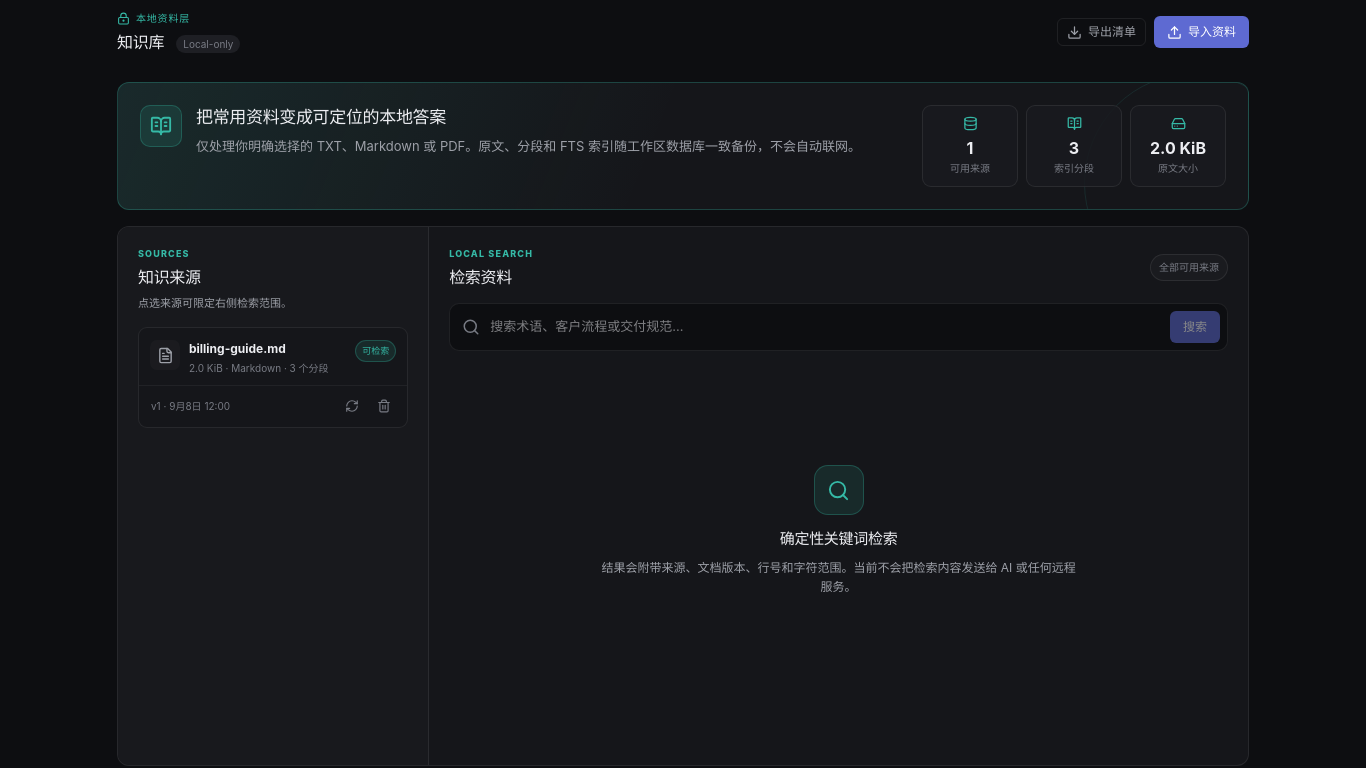
KnowledgeBasePage › exports only the source and index-status manifest
The width and height of the screenshot is (1366, 768).
Expected: the text "billing-guide.md" is shown, [189, 341, 286, 356]
Step 1. Click the button "导出清单" → coordinates (1102, 32), box [1057, 18, 1146, 46]
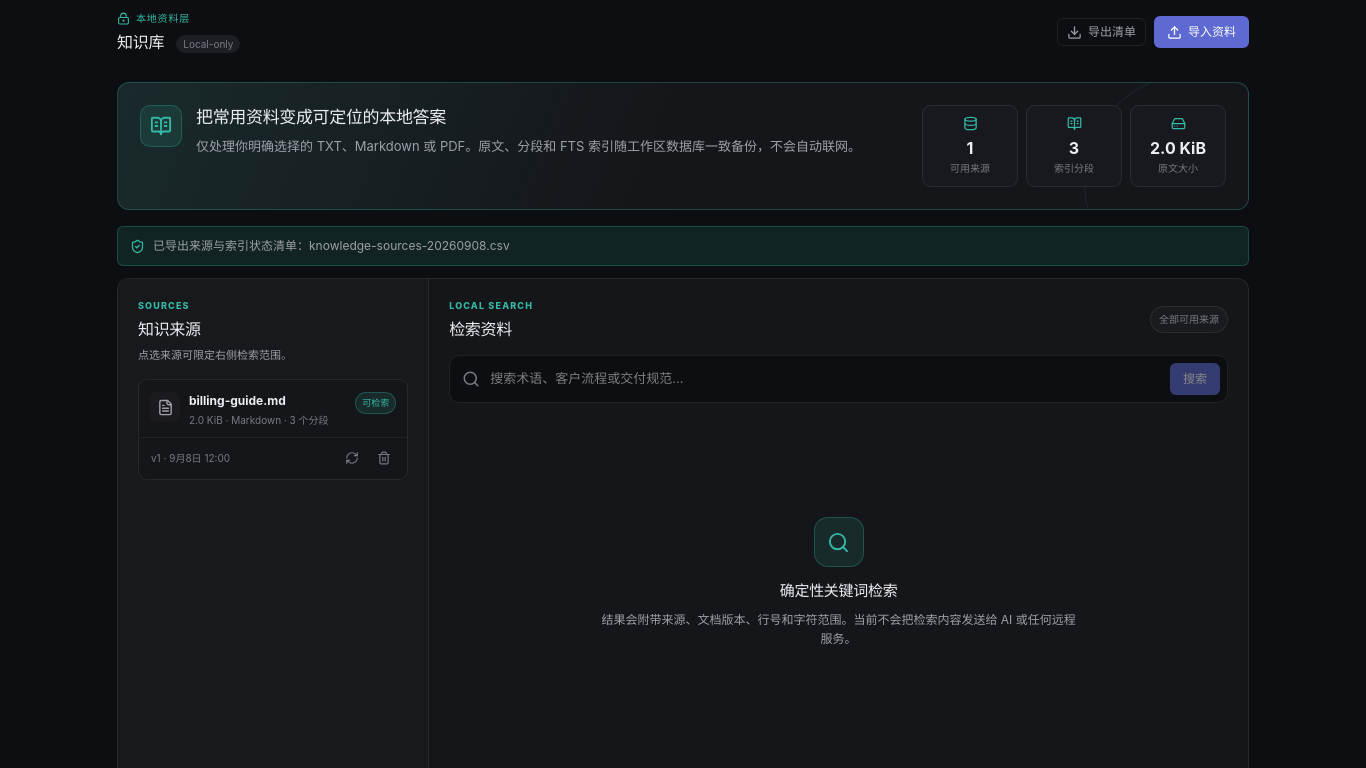
Expected: the text "已导出来源与索引状态清单：knowledge-sources-20260908.csv" is shown, [117, 226, 1249, 266]
